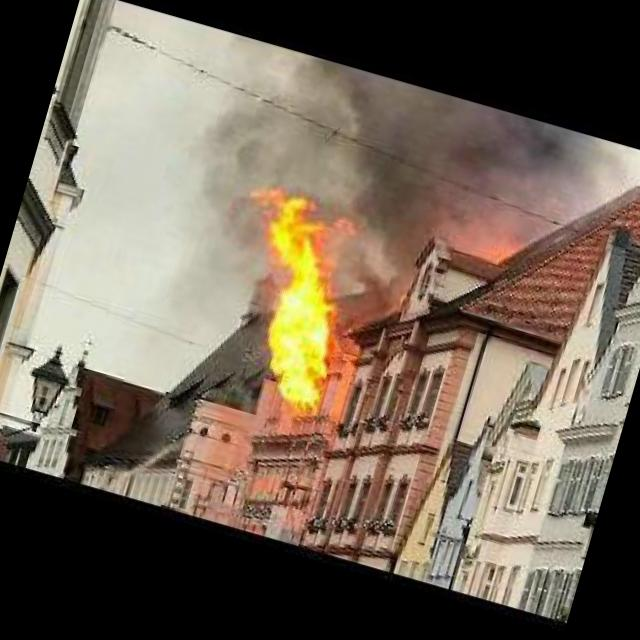smoke: (193, 30, 573, 257), (203, 178, 386, 409)
